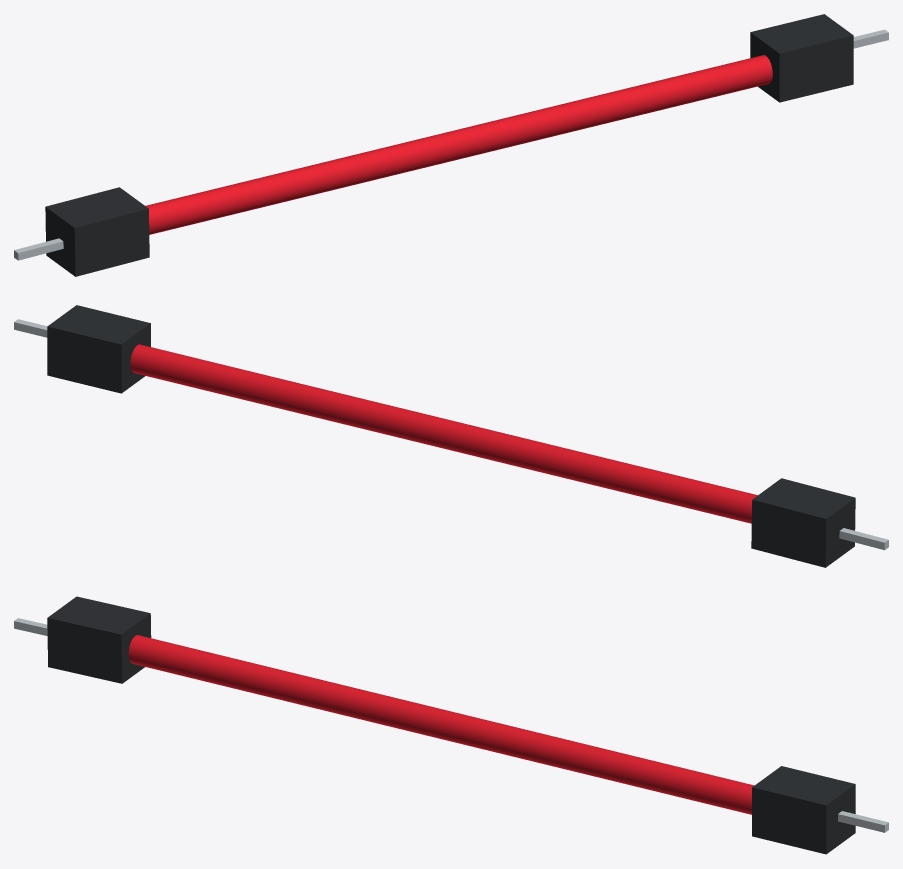
Rendered from tinker.obj.
3 renders of one model, top to bottom at view 1: azimuth 30°, elevation 25°; view 2: azimuth 150°, elevation 25°; view 3: azimuth 330°, elevation 25°, orthographic.
Visible parts, largest first — view 1: obj_2, obj_3, obj_1, obj_4; view 2: obj_2, obj_3, obj_1, obj_4; view 3: obj_2, obj_1, obj_3, obj_0.
Boxes of the visible parts, x1,y1,x2,y2 form: obj_2: (145, 55, 772, 234); obj_3: (45, 187, 149, 276); obj_1: (750, 14, 853, 102); obj_4: (14, 238, 63, 260); obj_2: (130, 344, 757, 523); obj_3: (751, 478, 855, 567); obj_1: (47, 305, 150, 393); obj_4: (839, 528, 888, 550); obj_2: (128, 635, 754, 814); obj_1: (752, 766, 855, 854); obj_3: (47, 596, 151, 683); obj_0: (838, 811, 888, 832).
Bounding box in the file's own units: 223 × 12.61 × 13.
